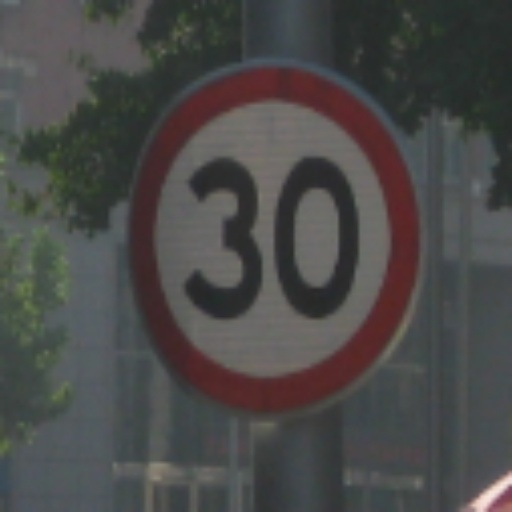Speed limit: (118, 55, 434, 414)
